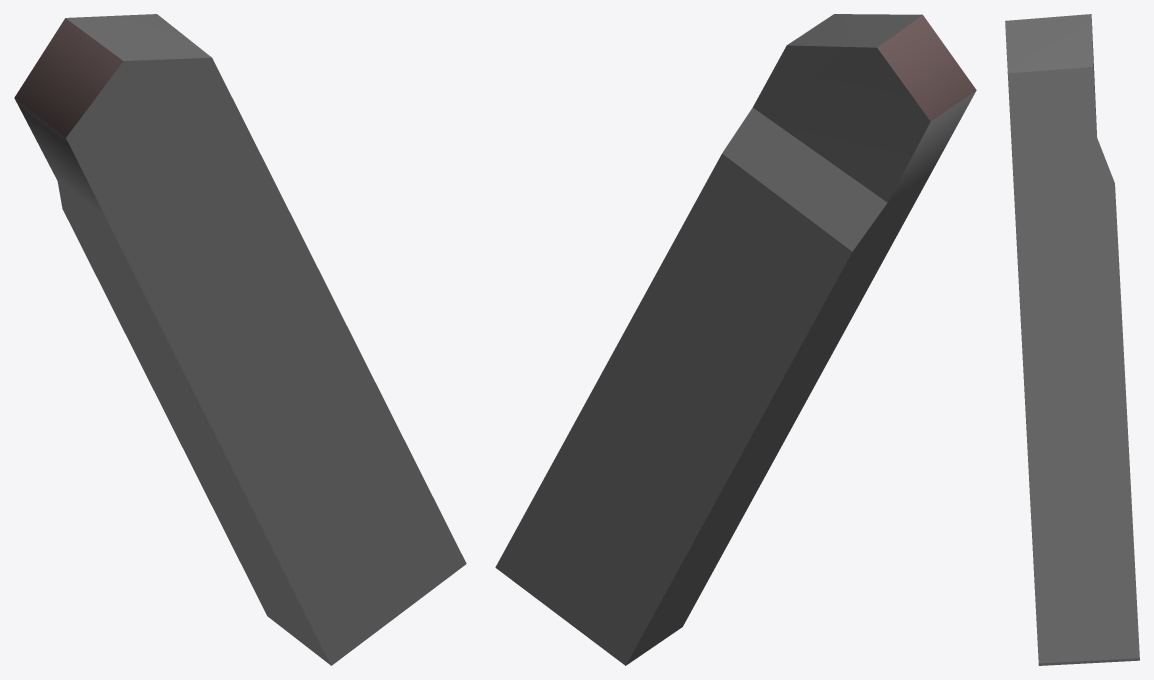
Rendered from renqinjiao06.FBX.
The picture shows the model from 3 angles, left to right: view 1: azimuth 30°, elevation 25°; view 2: azimuth 150°, elevation 25°; view 3: azimuth 270°, elevation 25°; orthographic projection. The views are drawn at different scales.
Parts seen in each view (by area): view 1: 车刀构造; view 2: 车刀构造; view 3: 车刀构造.
Boxes of the visible parts, x1,y1,x2,y2 form: 车刀构造: [14, 14, 466, 665]; 车刀构造: [495, 14, 976, 665]; 车刀构造: [1005, 14, 1139, 665].
Size of the model in its own units: 54.6 by 18.41 by 84.16.
